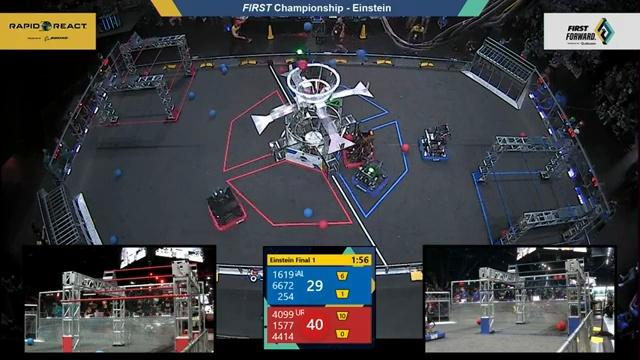robot: (199, 183, 253, 235), (413, 119, 455, 171), (347, 159, 393, 197), (336, 125, 377, 167)
